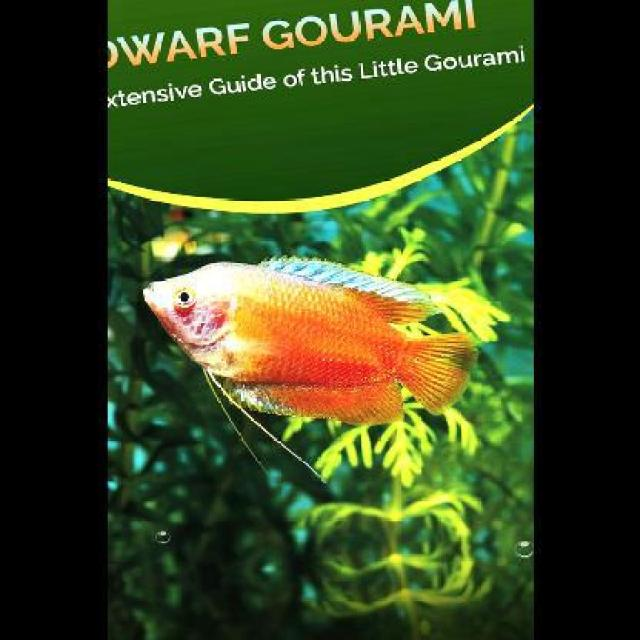Gourami: (137, 248, 475, 422)
